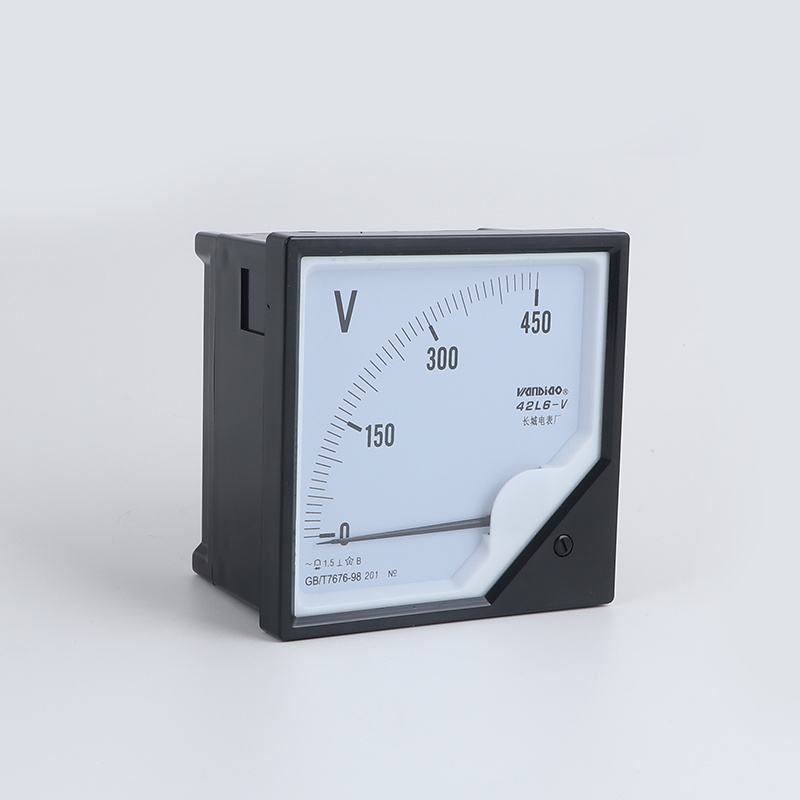pointer: (292, 253, 604, 615)
